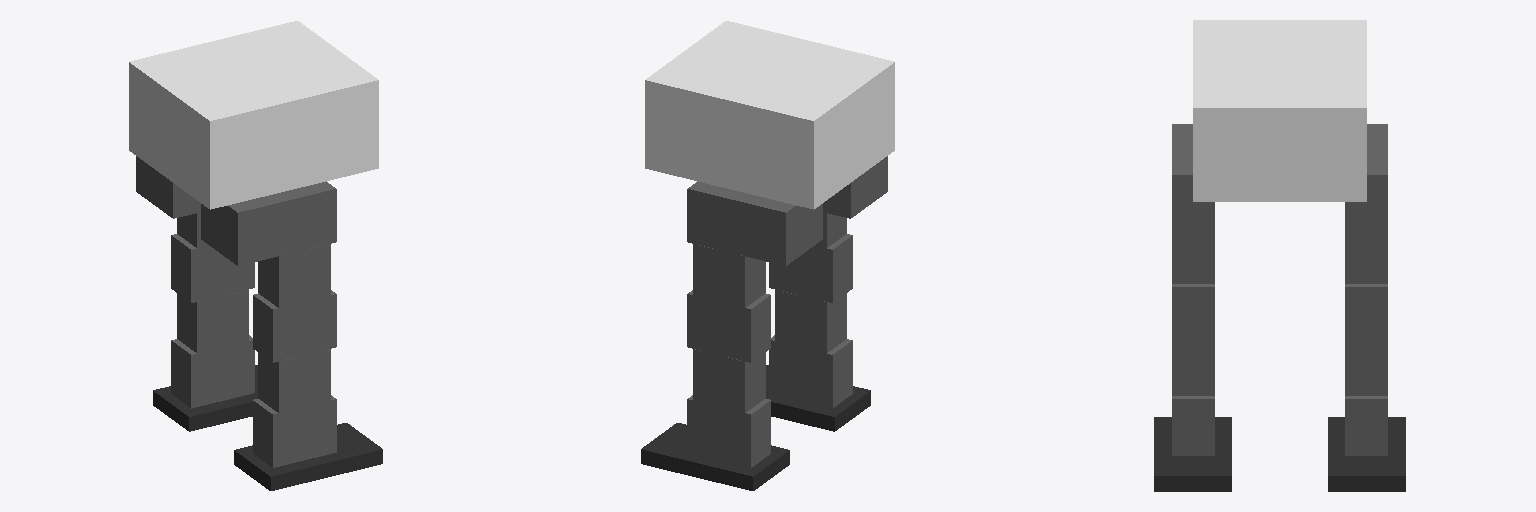
robot.urdf — kurokun:
<?xml version="1.0"?>
<!--
  KuroKun Biped Robot - URDF (Simplified Box Model)
  ================================================
  Coordinate convention:
    X = forward (robot facing direction)
    Y = left
    Z = up

  Kinematic chain (per leg):
    base_link
      └─[hip_roll,  axis=X] ─ hip_roll_link   (45.22×24.72×36.3 mm, long axis along X = inner/medial)
          └─[hip_pitch, axis=Y] ─ hip_pitch_link (motor 45.22×24.72×36.3 mm, 48 g)
              └─[fixed]  ─ thigh_link  (37×25×35 mm, 10 g)
              └─[knee,      axis=Y] ─ knee_link  (motor 45.22×24.72×36.3 mm, 48 g)
                  └─[fixed]  ─ shank_link  (37×25×35 mm, 10 g)
                      └─[ankle,  axis=Y] ─ ankle_link (45.22×24.72×36.3 mm)
                      └─[foot_fixed] ─ foot_link  (80×45×10 mm)

  Hip assembly (L-shape from top / XY view):
    - hip_pitch (Y-axis): FRONT motor, long axis along X (45.22 mm), at x=0, y=±0.050
    - hip_roll  (X-axis): REAR  motor, rotated 90° around Z, long axis along Y (45.22 mm)
    - Both tops flush (z=−0.030); OUTER faces aligned at y=±0.06236 — forms L corner.
    - L opens INWARD (toward robot center). hip_roll extends inward.
    - Touching along X: ΔX(centers) = 45.22/2 + 24.72/2 = 22.61 + 12.36 = 34.97 mm
    - hip_pitch joint (base frame) : x= 0.000,   y=±0.050,   z=−0.030
    - hip_roll  joint (base frame) : x=−0.03497, y=±0.03975, z=−0.030
      (y_hr = leg_outer − hip_roll_half_Y = 0.06236 − 0.02261 = 0.03975)
    - hip_pitch joint in hip_roll_link: LEFT  xyz=(+0.03497, +0.01025, 0)
                                        RIGHT xyz=(+0.03497, −0.01025, 0)
    - Touch at x=−0.02261 (hip_pitch rear face = hip_roll front face ✓)
    - Inter-leg inner clearance: 2×0.01714 = 34.28 mm ✓

  Mass assumptions:
    Each motor link  : 48 g  (LX-16A spec, Hiwonder official)
    Foot link        : 10 g  (3D-printed PLA, light)
    base_link        : 250 g (RPi 4B ~46 g + PSU ~175 g + structure ~30 g)

  LX-16A official dimensions (Hiwonder): 45.22 × 24.72 × 36.3 mm
  Inertia calculated analytically for uniform solid box  I = m/12*(a²+b²).

  Inertia tables (m = 0.048 kg):
    hip_roll_link  box X=24.72 Y=45.22 Z=36.3 mm (rotated 90° around Z):
      Ixx = m/12*(Y²+Z²) = 1.345e-5
      Iyy = m/12*(X²+Z²) = 7.72e-6
      Izz = m/12*(X²+Y²) = 1.062e-5
    hip_pitch_link box X=45.22 Y=24.72 Z=36.3 mm:
      Ixx = m/12*(Y²+Z²) = 7.72e-6
      Iyy = m/12*(X²+Z²) = 1.345e-5
      Izz = m/12*(X²+Y²) = 1.062e-5
-->
<robot name="kurokun">

  <!-- ========== MATERIALS ========== -->
  <material name="white">
    <color rgba="0.95 0.95 0.95 1.0"/>
  </material>
  <material name="gray">
    <color rgba="0.45 0.45 0.45 1.0"/>
  </material>
  <material name="dark_gray">
    <color rgba="0.25 0.25 0.25 1.0"/>
  </material>

  <!-- ========== BASE LINK ========== -->
  <!-- Box: 120×100×60 mm, mass 250 g -->
  <!-- Ixx = 0.25/12*(0.100²+0.060²) = 2.833e-4 -->
  <!-- Iyy = 0.25/12*(0.120²+0.060²) = 3.750e-4 -->
  <!-- Izz = 0.25/12*(0.120²+0.100²) = 5.083e-4 -->
  <link name="base_link">
    <inertial>
      <mass value="0.250"/>
      <origin xyz="0 0 0" rpy="0 0 0"/>
      <inertia ixx="2.833e-4" ixy="0" ixz="0"
               iyy="3.750e-4" iyz="0"
               izz="5.083e-4"/>
    </inertial>
    <visual>
      <origin xyz="0 0 0" rpy="0 0 0"/>
      <geometry><box size="0.120 0.100 0.060"/></geometry>
      <material name="white"/>
    </visual>
    <collision>
      <origin xyz="0 0 0" rpy="0 0 0"/>
      <geometry><box size="0.120 0.100 0.060"/></geometry>
    </collision>
  </link>

  <!-- ============================================================ -->
  <!--                        LEFT LEG                              -->
  <!-- ============================================================ -->

  <!-- LEFT HIP ROLL (axis = X) -->
  <!-- Rear motor, rotated 90° around Z (long axis now along Y = 45.22 mm). -->
  <!-- Joint at x=−0.03497, y=+0.03975, z=−0.030.                          -->
  <!-- Outer face (y=0.06236) aligned with outer face of hip_pitch (L corner).-->
  <!-- hip_roll extends INWARD (toward robot center). -->
  <joint name="left_hip_roll" type="revolute">
    <parent link="base_link"/>
    <child  link="left_hip_roll_link"/>
    <origin xyz="-0.03497 0.03975 -0.030" rpy="0 0 0"/>
    <axis xyz="1 0 0"/>
    <limit lower="-0.524" upper="0.524" effort="1.5" velocity="6.1"/>
    <dynamics damping="0.01" friction="0.01"/>
  </joint>

  <!-- hip_roll motor box: X=24.72 mm, Y=45.22 mm, Z=36.3 mm (rotated 90° around Z) -->
  <!-- Ixx=1.345e-5  Iyy=7.72e-6  Izz=1.062e-5                                      -->
  <link name="left_hip_roll_link">
    <inertial>
      <mass value="0.048"/>
      <origin xyz="0 0 -0.01815" rpy="0 0 0"/>
      <inertia ixx="1.345e-5" ixy="0" ixz="0"
               iyy="7.72e-6" iyz="0"
               izz="1.062e-5"/>
    </inertial>
    <visual>
      <origin xyz="0 0 -0.01815" rpy="0 0 0"/>
      <geometry><box size="0.02472 0.04522 0.0363"/></geometry>
      <material name="gray"/>
    </visual>
    <collision>
      <origin xyz="0 0 -0.01815" rpy="0 0 0"/>
      <geometry><box size="0.02472 0.04522 0.0363"/></geometry>
    </collision>
  </link>

  <!-- LEFT HIP PITCH (axis = Y) -->
  <!-- Front motor. Offset +34.97 mm in X (forward), +10.25 mm in Y (outward). -->
  <!-- Joint in base frame: (0, +0.050, −0.030). Tops flush with hip_roll.      -->
  <!-- Same orientation as knee/ankle (45.22 mm along X).                       -->
  <joint name="left_hip_pitch" type="revolute">
    <parent link="left_hip_roll_link"/>
    <child  link="left_hip_pitch_link"/>
    <origin xyz="0.03497 0.01025 0" rpy="0 0 0"/>
    <axis xyz="0 1 0"/>
    <limit lower="-0.785" upper="0.785" effort="1.5" velocity="6.1"/>
    <dynamics damping="0.01" friction="0.01"/>
  </joint>

  <!-- hip_pitch motor box: X=45.22 mm, Y=24.72 mm, Z=36.3 mm (same as knee/ankle) -->
  <!-- Ixx=7.72e-6  Iyy=1.345e-5  Izz=1.062e-5                                    -->
  <link name="left_hip_pitch_link">
    <inertial>
      <mass value="0.048"/>
      <origin xyz="0 0 -0.01815" rpy="0 0 0"/>
      <inertia ixx="7.72e-6" ixy="0" ixz="0"
               iyy="1.345e-5" iyz="0"
               izz="1.062e-5"/>
    </inertial>
    <!-- motor box -->
    <visual>
      <origin xyz="0 0 -0.01815" rpy="0 0 0"/>
      <geometry><box size="0.04522 0.02472 0.0363"/></geometry>
      <material name="gray"/>
    </visual>
    <collision>
      <origin xyz="0 0 -0.01815" rpy="0 0 0"/>
      <geometry><box size="0.04522 0.02472 0.0363"/></geometry>
    </collision>
  </link>

  <!-- LEFT THIGH CONNECTOR (fixed, 37×25×35 mm, 10 g) -->
  <!-- CoM at z=−0.0175 (center of 35 mm connector).    -->
  <!-- Ixx=1.542e-6  Iyy=2.162e-6  Izz=1.662e-6         -->
  <joint name="left_thigh_joint" type="fixed">
    <parent link="left_hip_pitch_link"/>
    <child  link="left_thigh_link"/>
    <origin xyz="0 0 -0.0363" rpy="0 0 0"/>
  </joint>

  <link name="left_thigh_link">
    <inertial>
      <mass value="0.010"/>
      <origin xyz="0 0 -0.0175" rpy="0 0 0"/>
      <inertia ixx="1.542e-6" ixy="0" ixz="0"
               iyy="2.162e-6" iyz="0"
               izz="1.662e-6"/>
    </inertial>
    <visual>
      <origin xyz="0 0 -0.0175" rpy="0 0 0"/>
      <geometry><box size="0.037 0.025 0.035"/></geometry>
      <material name="gray"/>
    </visual>
    <collision>
      <origin xyz="0 0 -0.0175" rpy="0 0 0"/>
      <geometry><box size="0.037 0.025 0.035"/></geometry>
    </collision>
  </link>

  <!-- LEFT KNEE (axis = Y) -->
  <!-- joint offset = thigh connector length (0.035) -->
  <joint name="left_knee" type="revolute">
    <parent link="left_thigh_link"/>
    <child  link="left_knee_link"/>
    <origin xyz="0 0 -0.035" rpy="0 0 0"/>
    <axis xyz="0 1 0"/>
    <limit lower="-1.571" upper="0.0" effort="1.5" velocity="6.1"/>
    <dynamics damping="0.01" friction="0.01"/>
  </joint>

  <!-- knee motor box: 45.22×24.72×36.3 mm, 48 g -->
  <link name="left_knee_link">
    <inertial>
      <mass value="0.048"/>
      <origin xyz="0 0 -0.01815" rpy="0 0 0"/>
      <inertia ixx="7.72e-6" ixy="0" ixz="0"
               iyy="1.345e-5" iyz="0"
               izz="1.062e-5"/>
    </inertial>
    <!-- motor box -->
    <visual>
      <origin xyz="0 0 -0.01815" rpy="0 0 0"/>
      <geometry><box size="0.04522 0.02472 0.0363"/></geometry>
      <material name="gray"/>
    </visual>
    <collision>
      <origin xyz="0 0 -0.01815" rpy="0 0 0"/>
      <geometry><box size="0.04522 0.02472 0.0363"/></geometry>
    </collision>
  </link>

  <!-- LEFT SHANK CONNECTOR (fixed, 37×25×35 mm, 10 g) -->
  <!-- Ixx=1.542e-6  Iyy=2.162e-6  Izz=1.662e-6          -->
  <joint name="left_shank_joint" type="fixed">
    <parent link="left_knee_link"/>
    <child  link="left_shank_link"/>
    <origin xyz="0 0 -0.0363" rpy="0 0 0"/>
  </joint>

  <link name="left_shank_link">
    <inertial>
      <mass value="0.010"/>
      <origin xyz="0 0 -0.0175" rpy="0 0 0"/>
      <inertia ixx="1.542e-6" ixy="0" ixz="0"
               iyy="2.162e-6" iyz="0"
               izz="1.662e-6"/>
    </inertial>
    <visual>
      <origin xyz="0 0 -0.0175" rpy="0 0 0"/>
      <geometry><box size="0.037 0.025 0.035"/></geometry>
      <material name="gray"/>
    </visual>
    <collision>
      <origin xyz="0 0 -0.0175" rpy="0 0 0"/>
      <geometry><box size="0.037 0.025 0.035"/></geometry>
    </collision>
  </link>

  <!-- LEFT ANKLE (axis = Y) -->
  <!-- joint offset = shank connector length (0.035) -->
  <joint name="left_ankle" type="revolute">
    <parent link="left_shank_link"/>
    <child  link="left_ankle_link"/>
    <origin xyz="0 0 -0.035" rpy="0 0 0"/>
    <axis xyz="0 1 0"/>
    <limit lower="-0.524" upper="0.524" effort="1.5" velocity="6.1"/>
    <dynamics damping="0.01" friction="0.01"/>
  </joint>

  <!-- Ankle motor box: 45.22×24.72×36.3 mm, mass 48 g -->
  <link name="left_ankle_link">
    <inertial>
      <mass value="0.048"/>
      <origin xyz="0 0 -0.01815" rpy="0 0 0"/>
      <inertia ixx="7.72e-6" ixy="0" ixz="0"
               iyy="1.345e-5" iyz="0"
               izz="1.062e-5"/>
    </inertial>
    <visual>
      <origin xyz="0 0 -0.01815" rpy="0 0 0"/>
      <geometry><box size="0.04522 0.02472 0.0363"/></geometry>
      <material name="gray"/>
    </visual>
    <collision>
      <origin xyz="0 0 -0.01815" rpy="0 0 0"/>
      <geometry><box size="0.04522 0.02472 0.0363"/></geometry>
    </collision>
  </link>

  <!-- LEFT FOOT (fixed) -->
  <joint name="left_ankle_to_foot" type="fixed">
    <parent link="left_ankle_link"/>
    <child  link="left_foot_link"/>
    <origin xyz="0 0 -0.0363" rpy="0 0 0"/>
  </joint>

  <!-- Foot box: 80×45×10 mm, mass 10 g, offset +10 mm forward -->
  <!-- Ixx = 0.010/12*(0.045²+0.010²) = 1.771e-6 -->
  <!-- Iyy = 0.010/12*(0.080²+0.010²) = 5.417e-6 -->
  <!-- Izz = 0.010/12*(0.080²+0.045²) = 7.021e-6 -->
  <link name="left_foot_link">
    <inertial>
      <mass value="0.010"/>
      <origin xyz="0.010 0 -0.005" rpy="0 0 0"/>
      <inertia ixx="1.771e-6" ixy="0" ixz="0"
               iyy="5.417e-6" iyz="0"
               izz="7.021e-6"/>
    </inertial>
    <visual>
      <origin xyz="0.010 0 -0.005" rpy="0 0 0"/>
      <geometry><box size="0.080 0.045 0.010"/></geometry>
      <material name="dark_gray"/>
    </visual>
    <collision>
      <origin xyz="0.010 0 -0.005" rpy="0 0 0"/>
      <geometry><box size="0.080 0.045 0.010"/></geometry>
    </collision>
  </link>

  <!-- ============================================================ -->
  <!--                       RIGHT LEG                              -->
  <!-- ============================================================ -->

  <!-- RIGHT HIP ROLL (axis = X) -->
  <!-- Rear motor, rotated 90° around Z (long axis now along Y = 45.22 mm). -->
  <!-- Joint at x=−0.03497, y=−0.03975, z=−0.030.                          -->
  <!-- Outer face (y=−0.06236) aligned with outer face of hip_pitch (L corner).-->
  <!-- hip_roll extends INWARD (toward robot center). -->
  <joint name="right_hip_roll" type="revolute">
    <parent link="base_link"/>
    <child  link="right_hip_roll_link"/>
    <origin xyz="-0.03497 -0.03975 -0.030" rpy="0 0 0"/>
    <axis xyz="1 0 0"/>
    <limit lower="-0.524" upper="0.524" effort="1.5" velocity="6.1"/>
    <dynamics damping="0.01" friction="0.01"/>
  </joint>

  <!-- hip_roll motor box: X=24.72 mm, Y=45.22 mm, Z=36.3 mm (rotated 90° around Z) -->
  <!-- Ixx=1.345e-5  Iyy=7.72e-6  Izz=1.062e-5                                      -->
  <link name="right_hip_roll_link">
    <inertial>
      <mass value="0.048"/>
      <origin xyz="0 0 -0.01815" rpy="0 0 0"/>
      <inertia ixx="1.345e-5" ixy="0" ixz="0"
               iyy="7.72e-6" iyz="0"
               izz="1.062e-5"/>
    </inertial>
    <visual>
      <origin xyz="0 0 -0.01815" rpy="0 0 0"/>
      <geometry><box size="0.02472 0.04522 0.0363"/></geometry>
      <material name="gray"/>
    </visual>
    <collision>
      <origin xyz="0 0 -0.01815" rpy="0 0 0"/>
      <geometry><box size="0.02472 0.04522 0.0363"/></geometry>
    </collision>
  </link>

  <!-- RIGHT HIP PITCH (axis = Y) -->
  <!-- Front motor. Offset +34.97 mm in X (forward), −10.25 mm in Y (outward). -->
  <!-- Joint in base frame: (0, −0.050, −0.030). Same orientation as knee.      -->
  <joint name="right_hip_pitch" type="revolute">
    <parent link="right_hip_roll_link"/>
    <child  link="right_hip_pitch_link"/>
    <origin xyz="0.03497 -0.01025 0" rpy="0 0 0"/>
    <axis xyz="0 1 0"/>
    <limit lower="-0.785" upper="0.785" effort="1.5" velocity="6.1"/>
    <dynamics damping="0.01" friction="0.01"/>
  </joint>

  <!-- hip_pitch motor box: X=45.22 mm, Y=24.72 mm, Z=36.3 mm (same as knee/ankle) -->
  <!-- Ixx=7.72e-6  Iyy=1.345e-5  Izz=1.062e-5                                    -->
  <link name="right_hip_pitch_link">
    <inertial>
      <mass value="0.048"/>
      <origin xyz="0 0 -0.01815" rpy="0 0 0"/>
      <inertia ixx="7.72e-6" ixy="0" ixz="0"
               iyy="1.345e-5" iyz="0"
               izz="1.062e-5"/>
    </inertial>
    <!-- motor box -->
    <visual>
      <origin xyz="0 0 -0.01815" rpy="0 0 0"/>
      <geometry><box size="0.04522 0.02472 0.0363"/></geometry>
      <material name="gray"/>
    </visual>
    <collision>
      <origin xyz="0 0 -0.01815" rpy="0 0 0"/>
      <geometry><box size="0.04522 0.02472 0.0363"/></geometry>
    </collision>
  </link>

  <!-- RIGHT THIGH CONNECTOR (fixed, 37×25×35 mm, 10 g) -->
  <!-- Ixx=1.542e-6  Iyy=2.162e-6  Izz=1.662e-6           -->
  <joint name="right_thigh_joint" type="fixed">
    <parent link="right_hip_pitch_link"/>
    <child  link="right_thigh_link"/>
    <origin xyz="0 0 -0.0363" rpy="0 0 0"/>
  </joint>

  <link name="right_thigh_link">
    <inertial>
      <mass value="0.010"/>
      <origin xyz="0 0 -0.0175" rpy="0 0 0"/>
      <inertia ixx="1.542e-6" ixy="0" ixz="0"
               iyy="2.162e-6" iyz="0"
               izz="1.662e-6"/>
    </inertial>
    <visual>
      <origin xyz="0 0 -0.0175" rpy="0 0 0"/>
      <geometry><box size="0.037 0.025 0.035"/></geometry>
      <material name="gray"/>
    </visual>
    <collision>
      <origin xyz="0 0 -0.0175" rpy="0 0 0"/>
      <geometry><box size="0.037 0.025 0.035"/></geometry>
    </collision>
  </link>

  <!-- RIGHT KNEE (axis = Y) -->
  <!-- joint offset = thigh connector length (0.035) -->
  <joint name="right_knee" type="revolute">
    <parent link="right_thigh_link"/>
    <child  link="right_knee_link"/>
    <origin xyz="0 0 -0.035" rpy="0 0 0"/>
    <axis xyz="0 1 0"/>
    <limit lower="-1.571" upper="0.0" effort="1.5" velocity="6.1"/>
    <dynamics damping="0.01" friction="0.01"/>
  </joint>

  <!-- knee motor box: 45.22×24.72×36.3 mm, 48 g -->
  <link name="right_knee_link">
    <inertial>
      <mass value="0.048"/>
      <origin xyz="0 0 -0.01815" rpy="0 0 0"/>
      <inertia ixx="7.72e-6" ixy="0" ixz="0"
               iyy="1.345e-5" iyz="0"
               izz="1.062e-5"/>
    </inertial>
    <!-- motor box -->
    <visual>
      <origin xyz="0 0 -0.01815" rpy="0 0 0"/>
      <geometry><box size="0.04522 0.02472 0.0363"/></geometry>
      <material name="gray"/>
    </visual>
    <collision>
      <origin xyz="0 0 -0.01815" rpy="0 0 0"/>
      <geometry><box size="0.04522 0.02472 0.0363"/></geometry>
    </collision>
  </link>

  <!-- RIGHT SHANK CONNECTOR (fixed, 37×25×35 mm, 10 g) -->
  <!-- Ixx=1.542e-6  Iyy=2.162e-6  Izz=1.662e-6           -->
  <joint name="right_shank_joint" type="fixed">
    <parent link="right_knee_link"/>
    <child  link="right_shank_link"/>
    <origin xyz="0 0 -0.0363" rpy="0 0 0"/>
  </joint>

  <link name="right_shank_link">
    <inertial>
      <mass value="0.010"/>
      <origin xyz="0 0 -0.0175" rpy="0 0 0"/>
      <inertia ixx="1.542e-6" ixy="0" ixz="0"
               iyy="2.162e-6" iyz="0"
               izz="1.662e-6"/>
    </inertial>
    <visual>
      <origin xyz="0 0 -0.0175" rpy="0 0 0"/>
      <geometry><box size="0.037 0.025 0.035"/></geometry>
      <material name="gray"/>
    </visual>
    <collision>
      <origin xyz="0 0 -0.0175" rpy="0 0 0"/>
      <geometry><box size="0.037 0.025 0.035"/></geometry>
    </collision>
  </link>

  <!-- RIGHT ANKLE (axis = Y) -->
  <!-- joint offset = shank connector length (0.035) -->
  <joint name="right_ankle" type="revolute">
    <parent link="right_shank_link"/>
    <child  link="right_ankle_link"/>
    <origin xyz="0 0 -0.035" rpy="0 0 0"/>
    <axis xyz="0 1 0"/>
    <limit lower="-0.524" upper="0.524" effort="1.5" velocity="6.1"/>
    <dynamics damping="0.01" friction="0.01"/>
  </joint>

  <link name="right_ankle_link">
    <inertial>
      <mass value="0.048"/>
      <origin xyz="0 0 -0.01815" rpy="0 0 0"/>
      <inertia ixx="7.72e-6" ixy="0" ixz="0"
               iyy="1.345e-5" iyz="0"
               izz="1.062e-5"/>
    </inertial>
    <visual>
      <origin xyz="0 0 -0.01815" rpy="0 0 0"/>
      <geometry><box size="0.04522 0.02472 0.0363"/></geometry>
      <material name="gray"/>
    </visual>
    <collision>
      <origin xyz="0 0 -0.01815" rpy="0 0 0"/>
      <geometry><box size="0.04522 0.02472 0.0363"/></geometry>
    </collision>
  </link>

  <!-- RIGHT FOOT (fixed) -->
  <joint name="right_ankle_to_foot" type="fixed">
    <parent link="right_ankle_link"/>
    <child  link="right_foot_link"/>
    <origin xyz="0 0 -0.0363" rpy="0 0 0"/>
  </joint>

  <link name="right_foot_link">
    <inertial>
      <mass value="0.010"/>
      <origin xyz="0.010 0 -0.005" rpy="0 0 0"/>
      <inertia ixx="1.771e-6" ixy="0" ixz="0"
               iyy="5.417e-6" iyz="0"
               izz="7.021e-6"/>
    </inertial>
    <visual>
      <origin xyz="0.010 0 -0.005" rpy="0 0 0"/>
      <geometry><box size="0.080 0.045 0.010"/></geometry>
      <material name="dark_gray"/>
    </visual>
    <collision>
      <origin xyz="0.010 0 -0.005" rpy="0 0 0"/>
      <geometry><box size="0.080 0.045 0.010"/></geometry>
    </collision>
  </link>

</robot>

--- Facts derived from the render (not from the file) ---
Views: 3 orthographic renders of the robot side by side, from view 1: azimuth 30°, elevation 25°; view 2: azimuth 150°, elevation 25°; view 3: azimuth 270°, elevation 25°.
Robot: kurokun — 15 links, 14 joints (8 revolute, 6 fixed); root link base_link; default pose: every joint at zero.
Visible links, largest first — view 1: base_link, right_ankle_link, right_knee_link, left_ankle_link, right_foot_link, right_hip_pitch_link, right_hip_roll_link, left_knee_link, right_shank_link, left_shank_link, right_thigh_link, left_foot_link (+2 smaller); view 2: base_link, left_ankle_link, left_knee_link, right_ankle_link, left_foot_link, left_hip_pitch_link, left_hip_roll_link, right_knee_link, left_shank_link, right_shank_link, left_thigh_link, right_foot_link (+2 smaller); view 3: base_link, left_foot_link, right_foot_link, left_knee_link, left_ankle_link, right_knee_link, right_ankle_link, left_hip_pitch_link, right_hip_pitch_link, left_thigh_link, left_shank_link, right_thigh_link (+1 smaller).
Link boxes in pixels (x1,y1,x2,y2): base_link: (129,21,378,209); right_ankle_link: (253,395,336,467); right_knee_link: (253,290,336,362); left_ankle_link: (171,335,254,408); right_foot_link: (234,423,382,490); right_hip_pitch_link: (263,181,336,257); right_hip_roll_link: (201,197,272,265); left_knee_link: (171,234,254,302); right_shank_link: (258,349,330,412); left_shank_link: (177,290,248,353); right_thigh_link: (258,244,330,307); left_foot_link: (153,365,257,431); base_link: (645,21,894,209); left_ankle_link: (687,395,770,467); left_knee_link: (687,290,770,362); right_ankle_link: (769,335,852,408); left_foot_link: (641,423,789,490); left_hip_pitch_link: (687,181,760,257); left_hip_roll_link: (751,197,822,265); right_knee_link: (769,234,852,302); left_shank_link: (693,349,765,412); right_shank_link: (775,290,846,353); left_thigh_link: (693,244,765,307); right_foot_link: (766,365,870,431); base_link: (1193,20,1366,201); left_foot_link: (1328,417,1405,491); right_foot_link: (1154,417,1231,491); left_knee_link: (1345,284,1387,343); left_ankle_link: (1345,396,1387,455); right_knee_link: (1172,284,1214,343); right_ankle_link: (1172,396,1214,455); left_hip_pitch_link: (1345,142,1387,231); right_hip_pitch_link: (1172,142,1214,231); left_thigh_link: (1345,232,1387,283); left_shank_link: (1345,344,1387,395); right_thigh_link: (1172,232,1214,283).
Bounding box of the posed robot: 0.12 × 0.145 × 0.2489 m (x, y, z).
Geometry: primitives only (box / cylinder / sphere), no mesh files.
